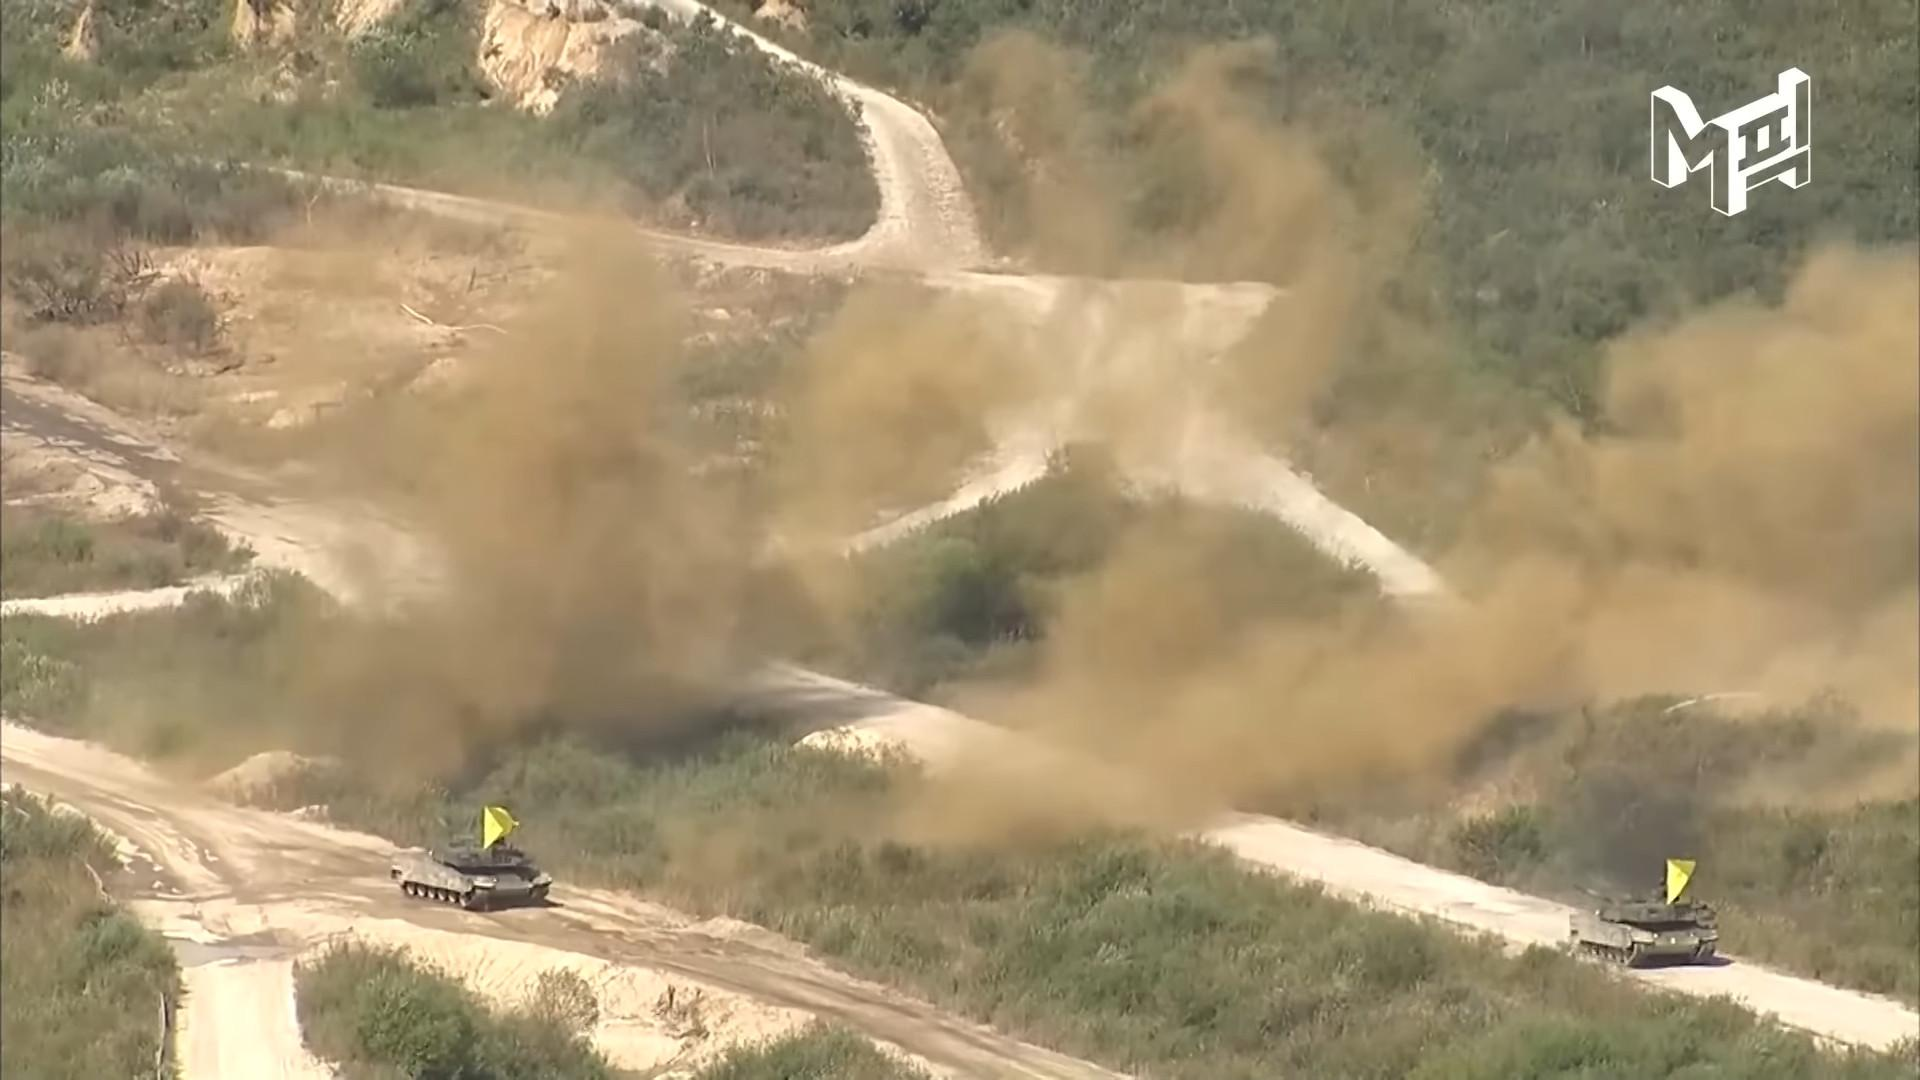tank: (390, 815, 553, 911), (1569, 878, 1720, 967)
